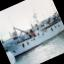fishing boat: (0, 4, 64, 63)
